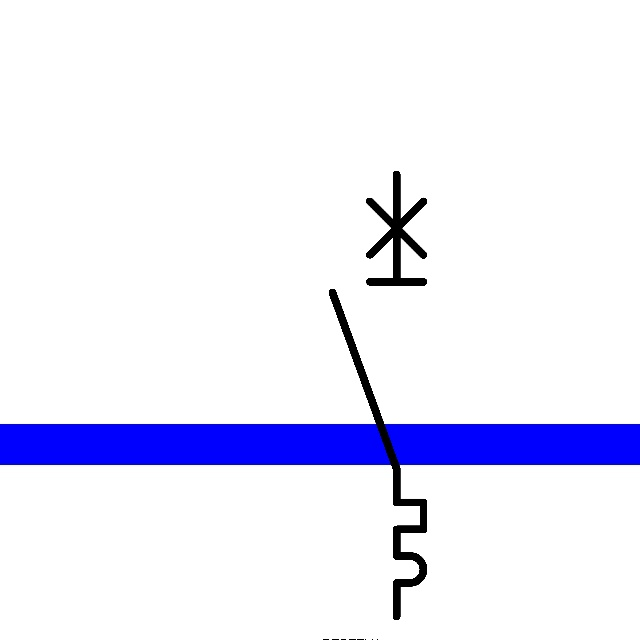interruptor_termomagnetico: (321, 163, 435, 628)
